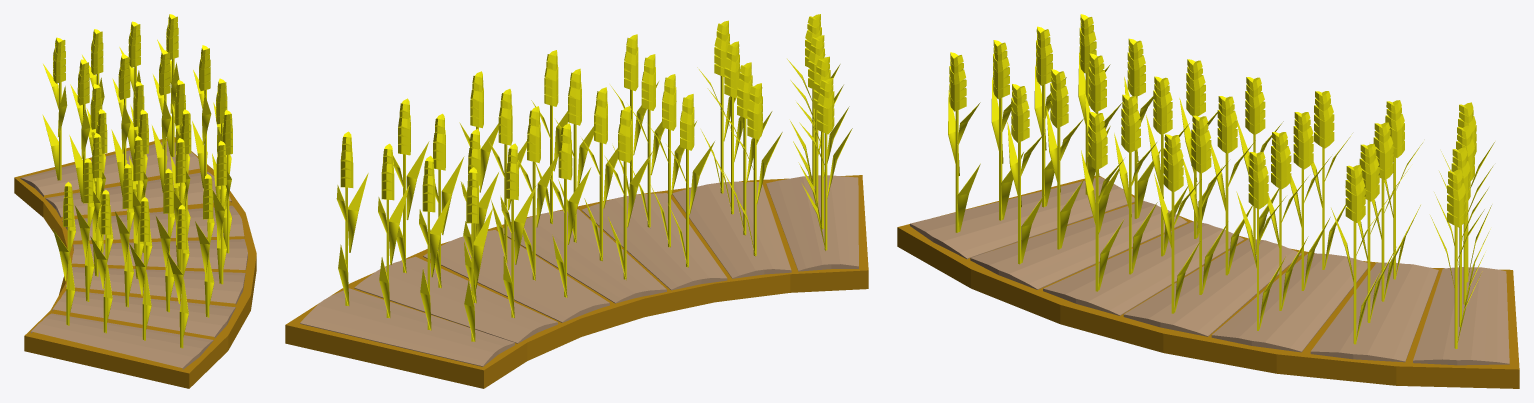
Rendered from innercircle-planted.fbx.
3 views of the same model, side by side, from view 1: azimuth 30°, elevation 25°; view 2: azimuth 150°, elevation 25°; view 3: azimuth 270°, elevation 25° (orthographic). The views are drawn at different scales.
Visible parts, largest first — view 1: Cylinder.116, Cube.053; view 2: Cylinder.116, Cube.053; view 3: Cylinder.116, Cube.053.
Part boxes in pixels (box(x1,y1,x2,y2)): Cylinder.116: box(14, 137, 256, 388); Cube.053: box(42, 14, 232, 348); Cylinder.116: box(285, 175, 868, 388); Cube.053: box(336, 14, 852, 341); Cylinder.116: box(897, 175, 1519, 388); Cube.053: box(948, 14, 1494, 348).
Size of the model in its own units: 2143 by 1042 by 2897.
